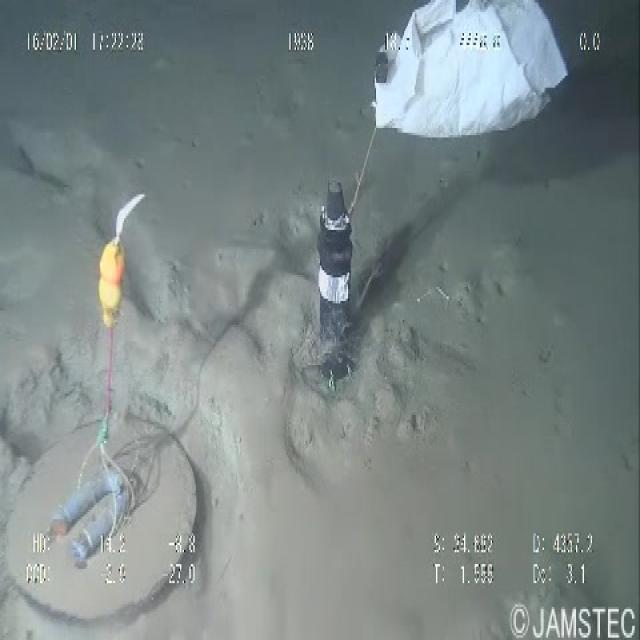plastic: (362, 0, 570, 152)
